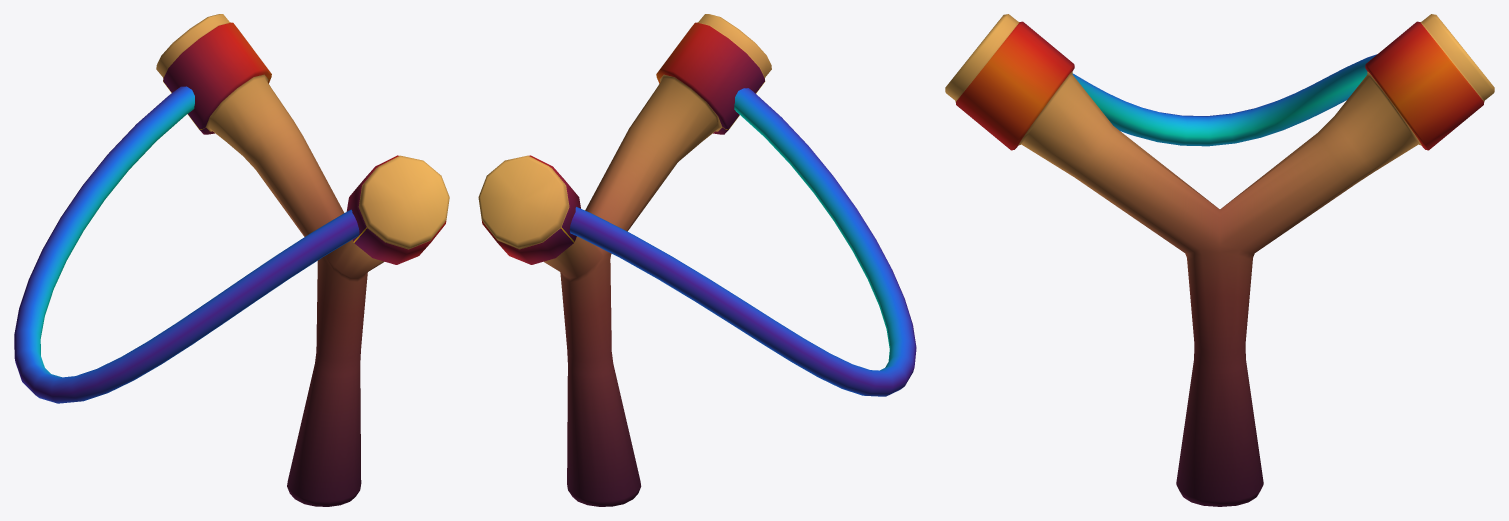
Rendered from Trowel-Launcher.fbx.
The picture shows the model from 3 angles, left to right: view 1: azimuth 30°, elevation 25°; view 2: azimuth 150°, elevation 25°; view 3: azimuth 270°, elevation 25°; orthographic projection. The views are drawn at different scales.
Parts seen in each view (by area): view 1: Base, String; view 2: Base, String; view 3: Base, String.
Part boxes in pixels (box(x1,y1,x2,y2)): Base: box(156, 14, 449, 506); String: box(14, 86, 359, 403); Base: box(478, 14, 771, 506); String: box(569, 88, 916, 396); Base: box(945, 14, 1494, 506); String: box(1072, 54, 1377, 146).
Size of the model in its own units: 144 by 168 by 181.
Materials: 2 (2 with a texture image).
